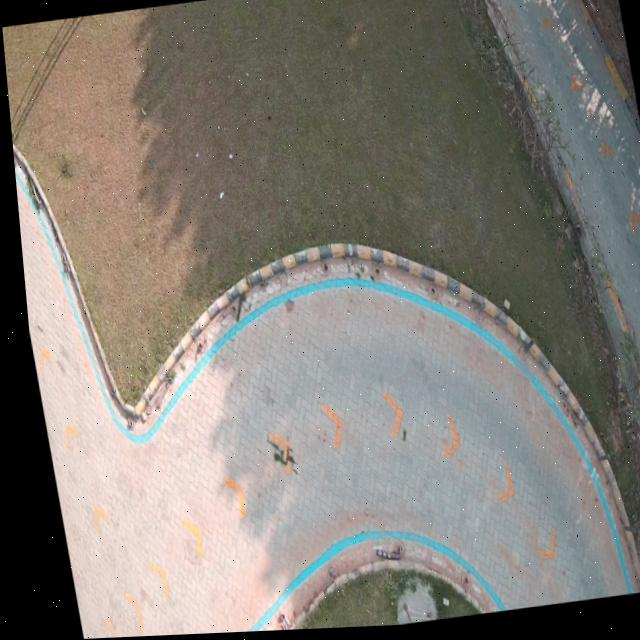No Car: (2, 0, 640, 639)
